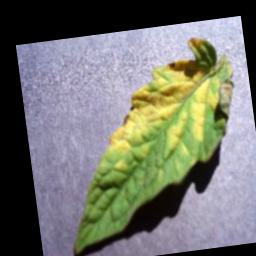Leaf_Mold: (95, 34, 229, 173)
